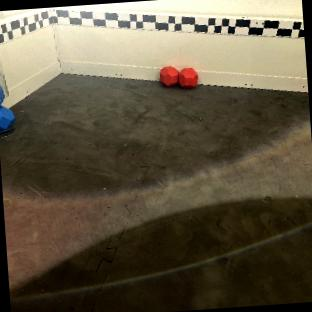V5_BLUE: (0, 78, 14, 131)
V5_RED: (158, 65, 198, 87)
